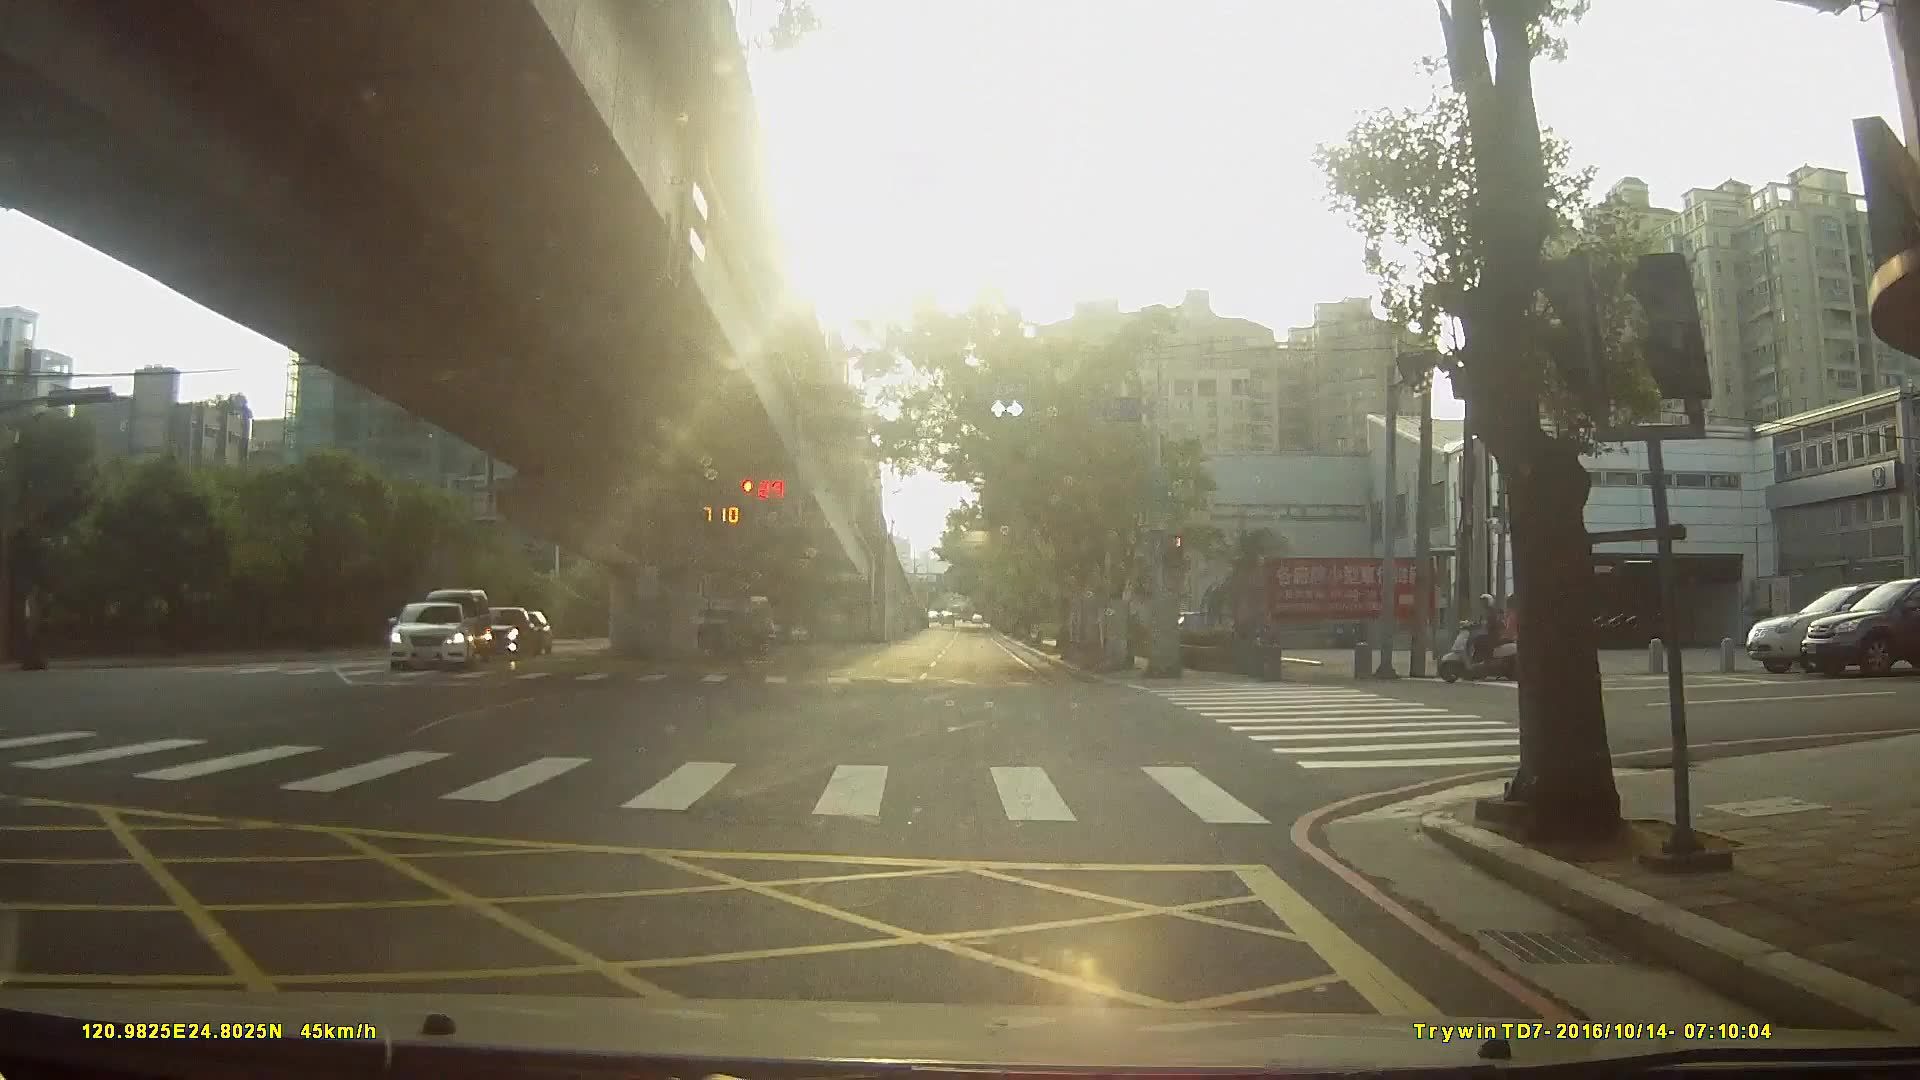rider: (1441, 591, 1525, 681)
vehicle: (1753, 578, 1920, 673), (1808, 574, 1919, 676), (382, 595, 469, 668), (670, 600, 772, 659), (465, 603, 535, 655)
